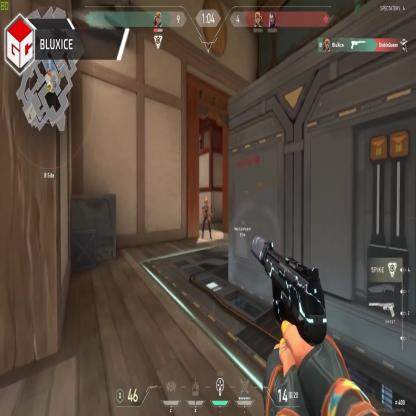enemy: (202, 198, 210, 239)
enemy_head: (205, 199, 209, 205)
